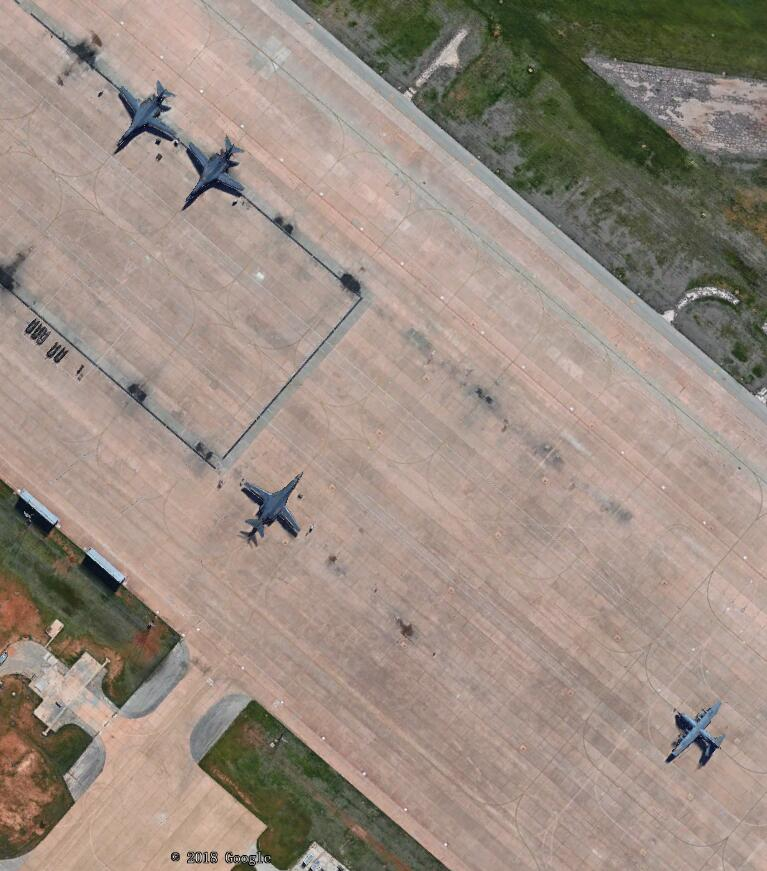A10: (109, 79, 181, 151), (186, 134, 251, 212), (242, 467, 307, 544)
A2: (662, 694, 734, 770)
